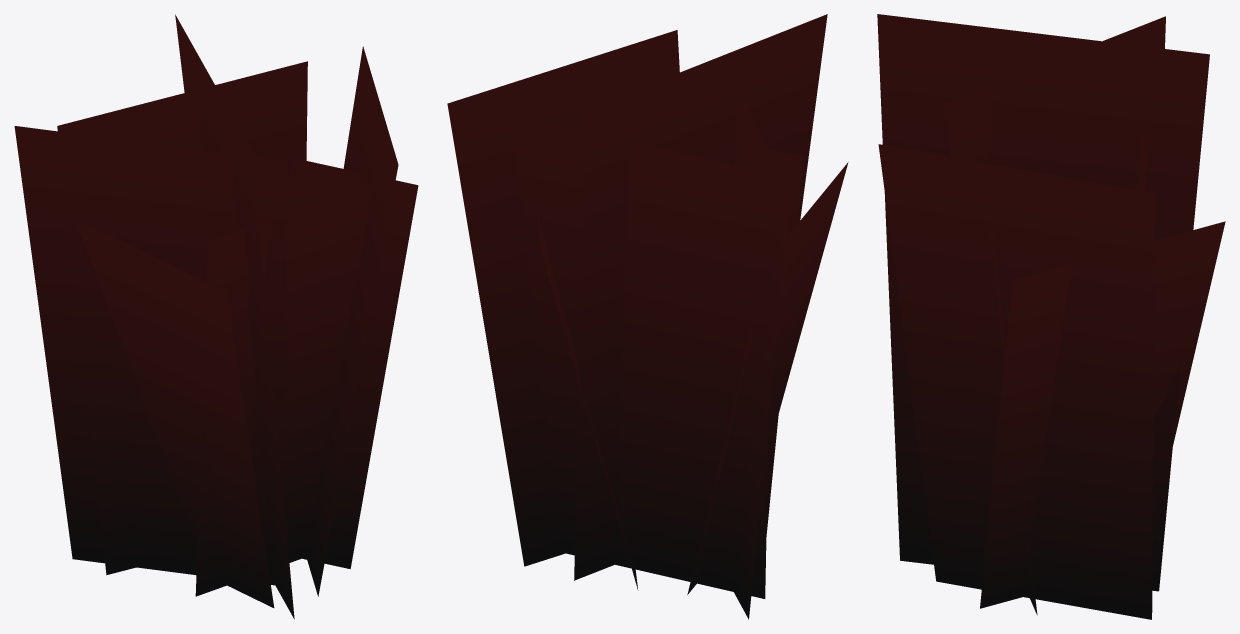
The model's file is TFD_Manna_Patch_01A.fbx.
3 views of the same model, side by side, from view 1: azimuth 30°, elevation 25°; view 2: azimuth 150°, elevation 25°; view 3: azimuth 270°, elevation 25° (orthographic). The views are drawn at different scales.
Visible parts, largest first — view 1: TFD_Manna_Patch_01A_LOD0; view 2: TFD_Manna_Patch_01A_LOD0; view 3: TFD_Manna_Patch_01A_LOD0.
Part boxes in pixels (x1,y1,x2,y2): TFD_Manna_Patch_01A_LOD0: (14,14,418,619); TFD_Manna_Patch_01A_LOD0: (447,14,848,619); TFD_Manna_Patch_01A_LOD0: (877,14,1225,619).
Bounding box in the file's own units: 92.51 × 127 × 76.8.
